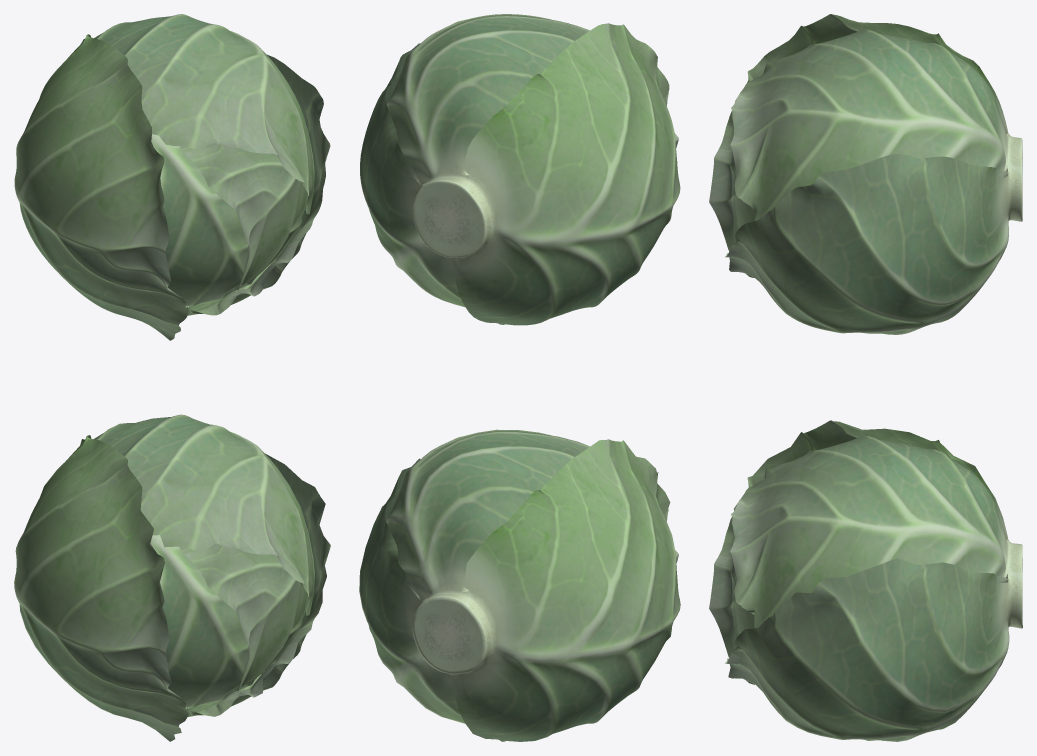
Rendered from cabbage.obj.
The picture shows the model from 3 angles, left to right: view 1: azimuth 30°, elevation 25°; view 2: azimuth 150°, elevation 25°; view 3: azimuth 270°, elevation 25°; orthographic projection. The views are drawn at different scales.
Visible parts, largest first — view 1: cabbage01, cabbage; view 2: cabbage01, cabbage; view 3: cabbage01, cabbage.
Part boxes in pixels (x1,y1,x2,y2): cabbage01: (14, 414, 330, 741); cabbage: (14, 14, 330, 340); cabbage01: (359, 429, 680, 741); cabbage: (360, 14, 680, 325); cabbage01: (709, 420, 1022, 741); cabbage: (709, 14, 1022, 334).
Bounding box in the file's own units: 163 × 398 × 162.
